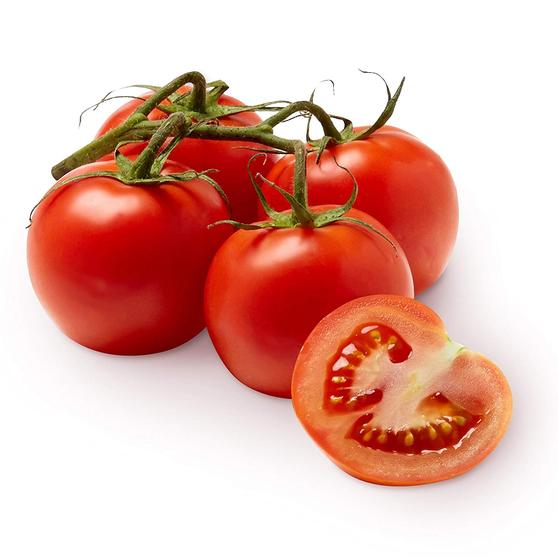tomato: (26, 158, 227, 355)
